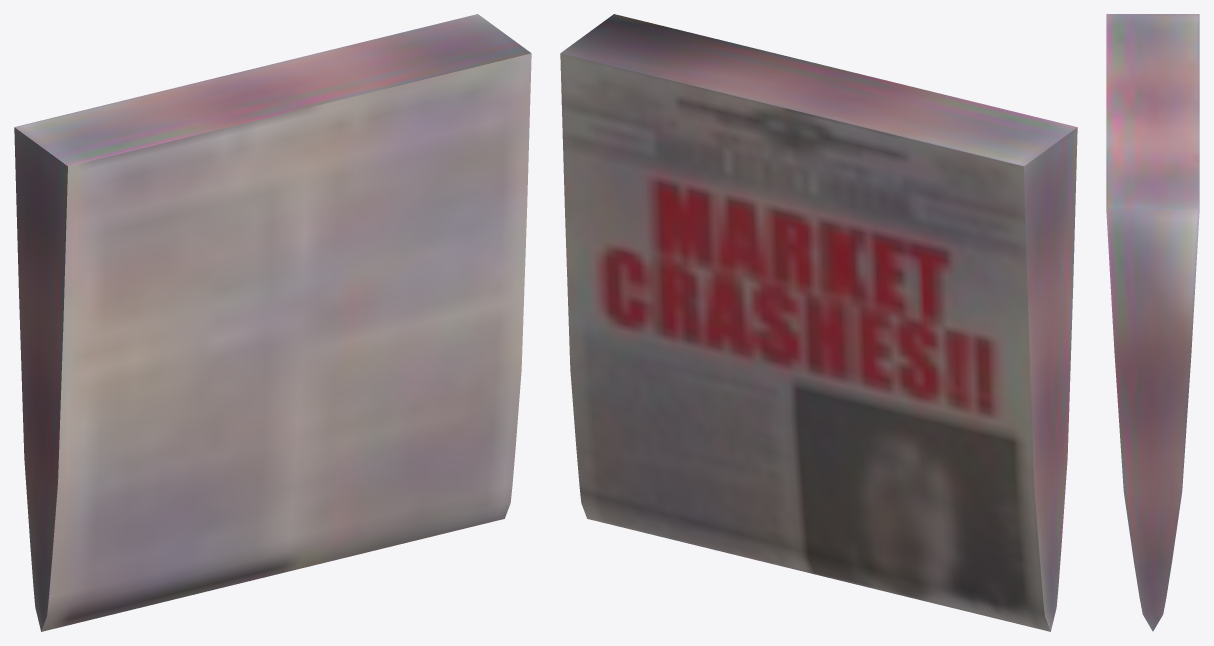
Rendered from newspaper.glb.
The picture shows the model from 3 angles, left to right: view 1: azimuth 30°, elevation 25°; view 2: azimuth 150°, elevation 25°; view 3: azimuth 270°, elevation 25°; orthographic projection. The views are drawn at different scales.
Visible parts, largest first — view 1: g1; view 2: g1; view 3: g1.
Part boxes in pixels (x1,y1,x2,y2): g1: [14, 14, 531, 631]; g1: [560, 14, 1077, 631]; g1: [1106, 14, 1199, 631].
Bounding box in the file's own units: 0.5 × 0.5 × 0.1003.
3 materials, 3 textured.
